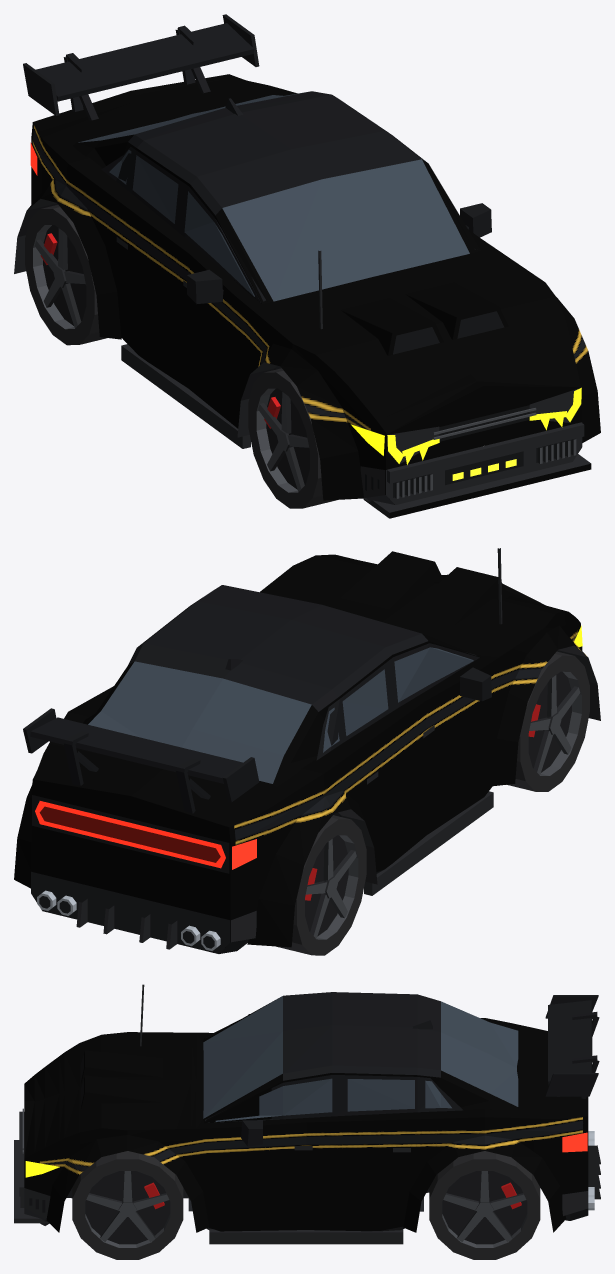
The model's file is lion-president.lod0.glb.
The picture shows the model from 3 angles, top to bottom: view 1: azimuth 30°, elevation 25°; view 2: azimuth 150°, elevation 25°; view 3: azimuth 270°, elevation 25°; orthographic projection. The views are drawn at different scales.
Visible parts, largest first — view 1: front, core, back, door_FR, wheel_FR, wheel_RR, door_RR; view 2: back, core, front, door_FR, wheel_RR, wheel_FR, door_RR; view 3: core, front, back, door_FL, wheel_FL, wheel_RL, door_RL.
Boxes of the visible parts, x1,y1,x2,y2 form: front: (237, 250, 600, 518); core: (40, 91, 498, 448); back: (14, 14, 297, 339); door_FR: (163, 236, 253, 428); wheel_FR: (248, 368, 336, 508); wheel_RR: (25, 204, 106, 345); door_RR: (113, 198, 164, 371); back: (14, 686, 377, 953); core: (83, 585, 540, 900); front: (260, 548, 600, 786); door_FR: (404, 657, 500, 851); wheel_RR: (276, 815, 366, 955); wheel_FR: (507, 651, 589, 791); door_RR: (362, 716, 405, 873); core: (144, 992, 521, 1244); front: (14, 984, 209, 1232); back: (403, 995, 600, 1232); door_FL: (196, 1121, 342, 1231); wheel_FL: (72, 1151, 183, 1259); wheel_RL: (429, 1151, 540, 1259); door_RL: (342, 1119, 416, 1231).
Size of what is drawn, in the model's own units: 2.11 by 1.6 by 4.54.
1 material, 1 textured.
